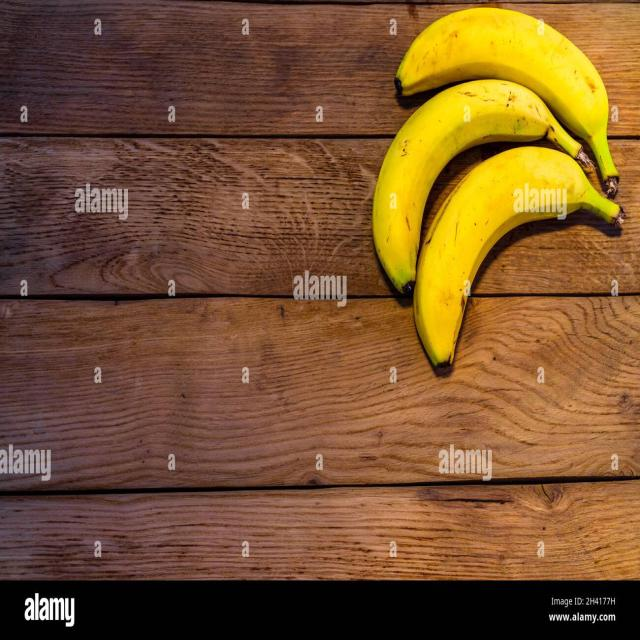banana: (406, 141, 629, 382), (370, 74, 598, 304), (390, 0, 623, 207)
